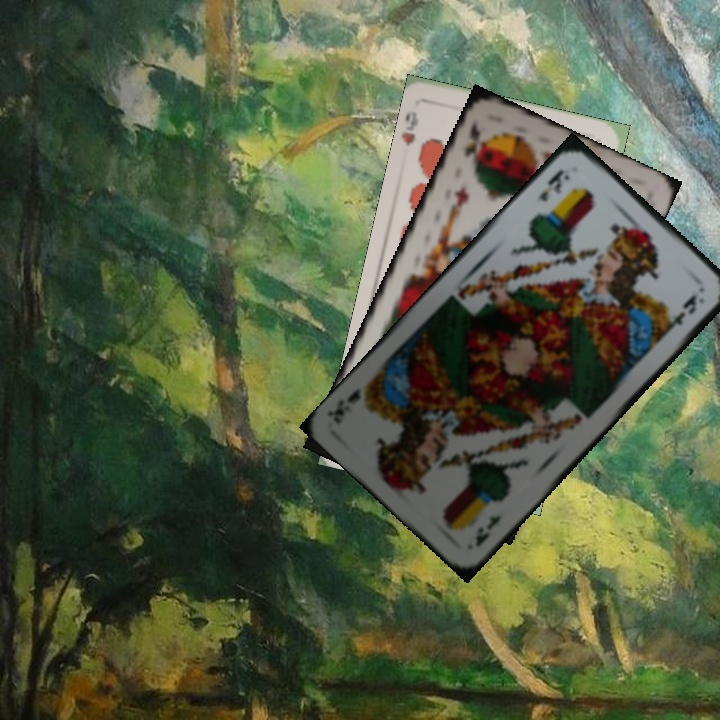EK: (535, 165, 573, 205), (471, 510, 504, 550)
H9: (399, 107, 421, 148)
SK: (459, 116, 485, 160)
